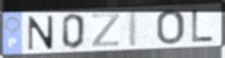0: (61, 12, 87, 51)
I: (127, 9, 139, 48)
L: (190, 9, 215, 44)
N: (26, 14, 55, 51)
O: (155, 8, 186, 46)
Z: (90, 12, 121, 49)
